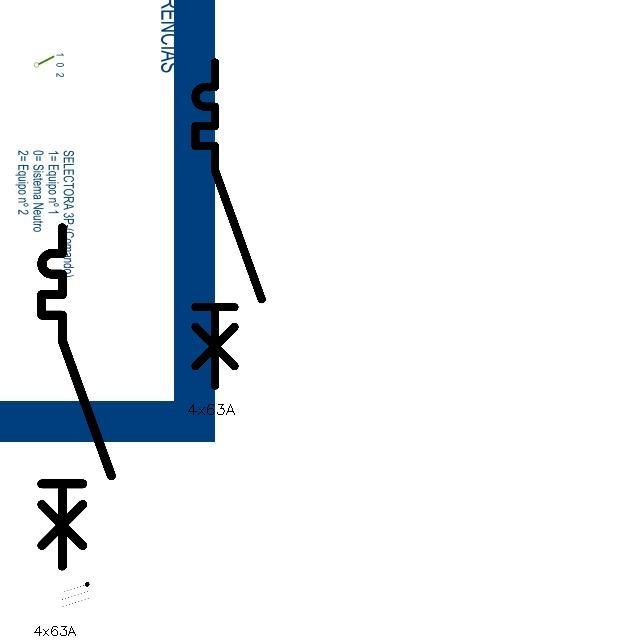interruptor_termomagnetico: (33, 219, 120, 575), (187, 54, 270, 394)
